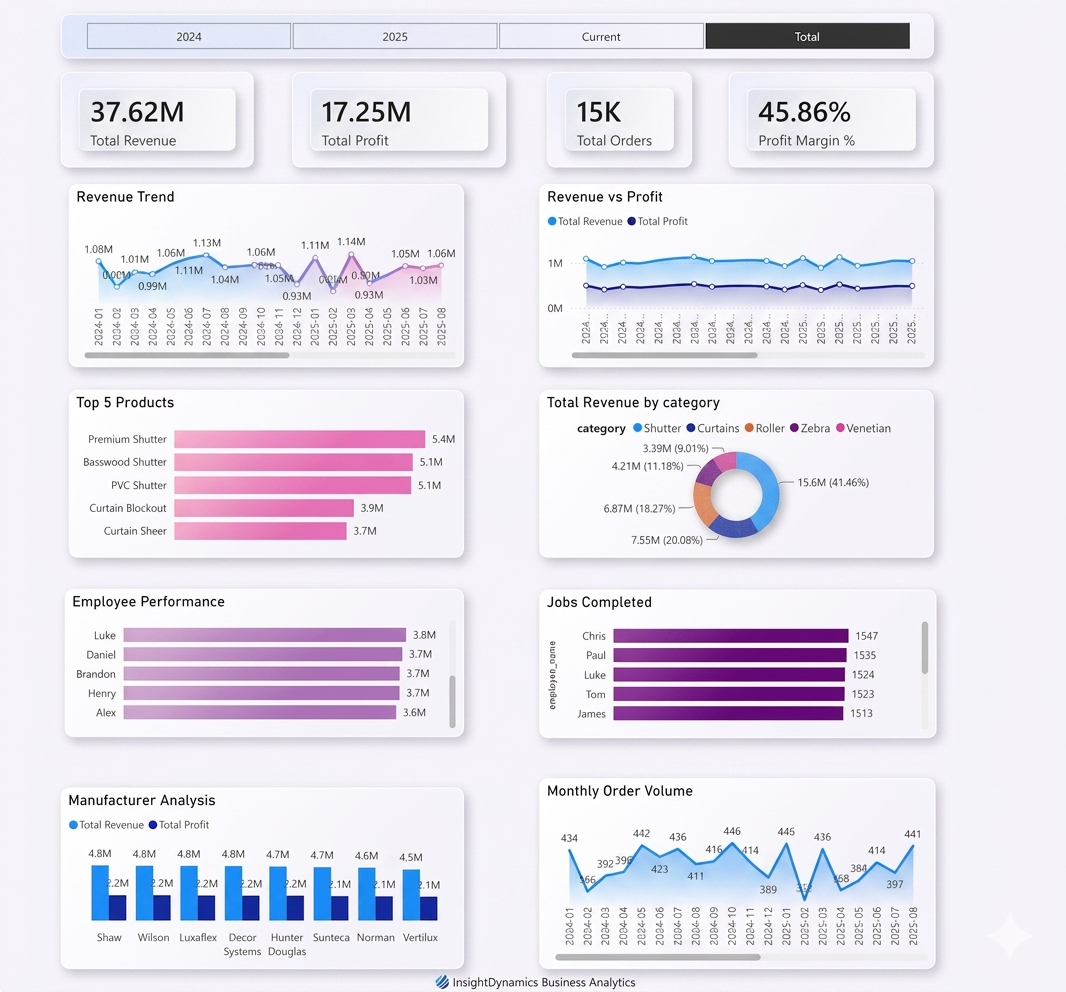

The dashboard page shown, as its layout file describes it:
{"tool":"powerbi","page":{"name":"1 페이지","canvas":[1280,1800],"ordinal":0},"visuals":[{"type":"cardVisual","fields":{"Data":["public fact_sales.Average Margin %"]},"box":[836,83,234,109],"z":0},{"type":"cardVisual","fields":{"Data":["public fact_sales.Total Profit"]},"box":[338,83,244,109],"z":1000},{"type":"cardVisual","fields":{"Data":["public fact_sales.Total Orders"]},"box":[629,83,165,109],"z":2000},{"type":"cardVisual","fields":{"Data":["public fact_sales.Total Revenue"]},"box":[74,83,220,109],"z":3000},{"type":"lineChart","title":"Revenue Trend","fields":{"Category":["public fact_sales.ChartMonth"],"Y":["public fact_sales.Total Revenue"]},"box":[83,211,451,209],"z":4000},{"type":"lineChart","title":"Revenue vs Profit","fields":{"Category":["public fact_sales.ChartMonth"],"Y":["public fact_sales.Total Revenue","public fact_sales.Total Profit"]},"box":[620,211,450,209],"z":5000},{"type":"barChart","title":"Top 5 Products","fields":{"Category":["public products.product_name"],"Y":["public fact_sales.Total Revenue"]},"box":[83,446,451,192],"z":6000},{"type":"donutChart","fields":{"Category":["public products.category"],"Y":["public fact_sales.Total Revenue"]},"box":[620,446,450,192],"z":7000},{"type":"barChart","title":"Employee Performance","fields":{"Category":["public employees.employee_name"],"Y":["public fact_sales.Total Revenue"]},"box":[78,673,456,169],"z":8000},{"type":"clusteredBarChart","title":"Jobs Completed","fields":{"Category":["public employees.employee_name"],"Y":["public fact_sales.Installer Jobs"]},"box":[620,674,453,169],"z":9000},{"type":"slicer","fields":{"Values":["slicer_table.Label"]},"box":[74,17,996,51],"z":10000},{"type":"clusteredColumnChart","title":"Manufacturer Analysis","fields":{"Y":["public fact_sales.Total Revenue","public fact_sales.Total Profit"],"Category":["public manufacturers.manufacturer_name"]},"box":[74,900,460,207],"z":11000},{"type":"lineChart","title":"Monthly Order Volume","fields":{"Category":["public fact_sales.ChartMonth"],"Y":["public fact_sales.Monthly Orders (Filtered)"]},"box":[620,889,452,218],"z":12000}]}

Visuals, with their boxes on the page's 1280x1800 design canvas (x1, y1, x2, y2). These are canvas units, not pixel positions in the 1066x992 screenshot, which may show the page scaled, cropped or inside an application window:
cardVisual - public fact_sales.Average Margin %: 836:83:1070:192
cardVisual - public fact_sales.Total Profit: 338:83:582:192
cardVisual - public fact_sales.Total Orders: 629:83:794:192
cardVisual - public fact_sales.Total Revenue: 74:83:294:192
"Revenue Trend" lineChart: 83:211:534:420
"Revenue vs Profit" lineChart: 620:211:1070:420
"Top 5 Products" barChart: 83:446:534:638
donutChart - public products.category x public fact_sales.Total Revenue: 620:446:1070:638
"Employee Performance" barChart: 78:673:534:842
"Jobs Completed" clusteredBarChart: 620:674:1073:843
slicer - slicer_table.Label: 74:17:1070:68
"Manufacturer Analysis" clusteredColumnChart: 74:900:534:1107
"Monthly Order Volume" lineChart: 620:889:1072:1107
